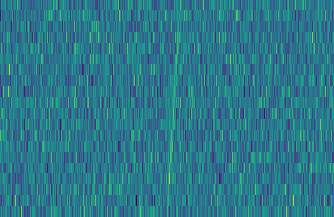signal: (163, 0, 184, 217)
